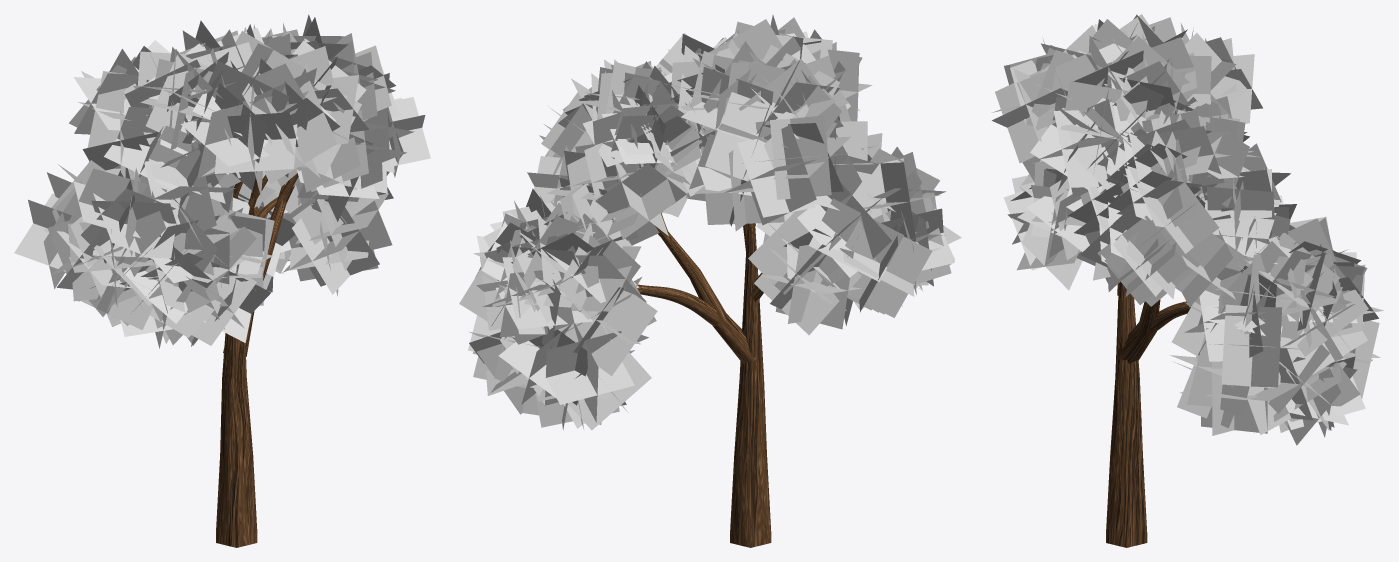
3 views of the same model, side by side, from view 1: azimuth 30°, elevation 25°; view 2: azimuth 150°, elevation 25°; view 3: azimuth 270°, elevation 25° (orthographic).
Visible parts, largest first — view 1: Leaves, tree; view 2: Leaves, tree; view 3: Leaves, tree.
Part boxes in pixels (x1=…): Leaves: x1=14, y1=14, x2=430, y2=348; tree: x1=216, y1=173, x2=298, y2=547; Leaves: x1=459, y1=15, x2=961, y2=430; tree: x1=637, y1=213, x2=771, y2=547; Leaves: x1=991, y1=14, x2=1383, y2=445; tree: x1=1106, y1=282, x2=1191, y2=547.
Size of the model in its own units: 691 by 821 by 581.
Materials: 2 (1 with a texture image).
